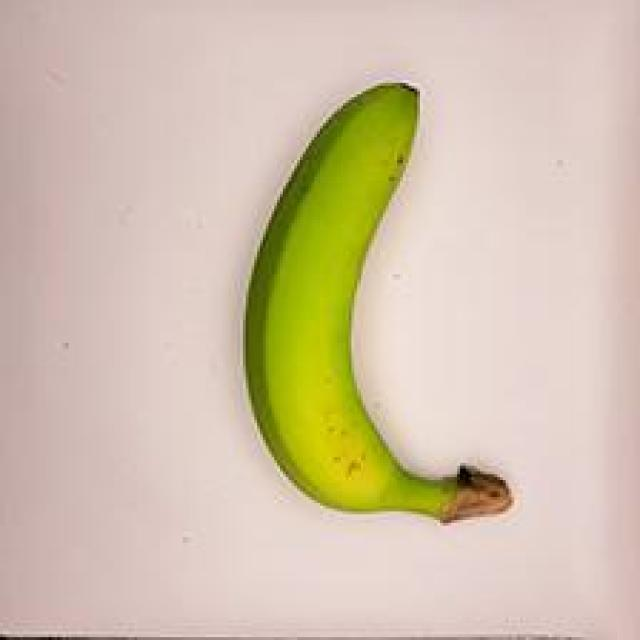Unripe: (227, 62, 526, 548)
